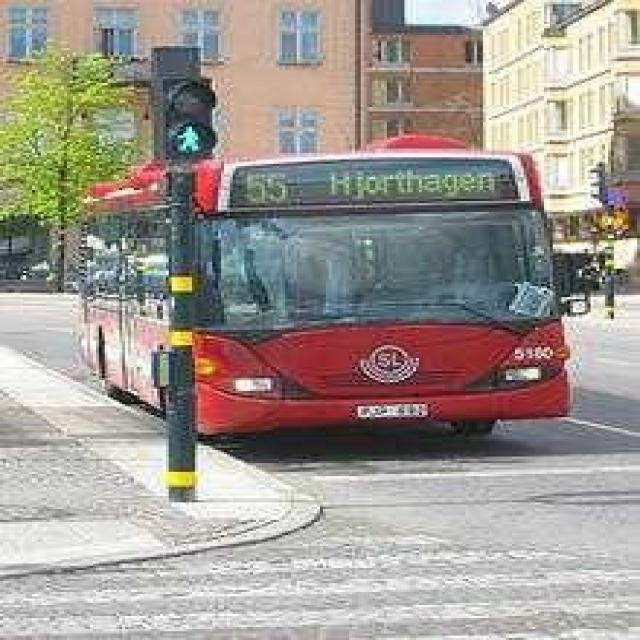Bus: (61, 134, 580, 456)
